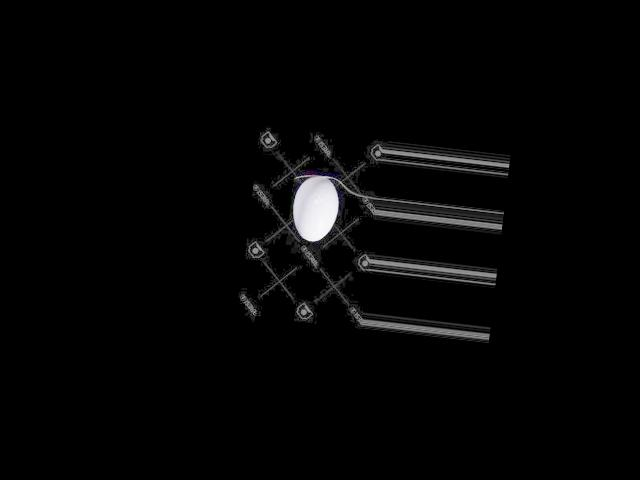egg: (289, 173, 341, 243)
